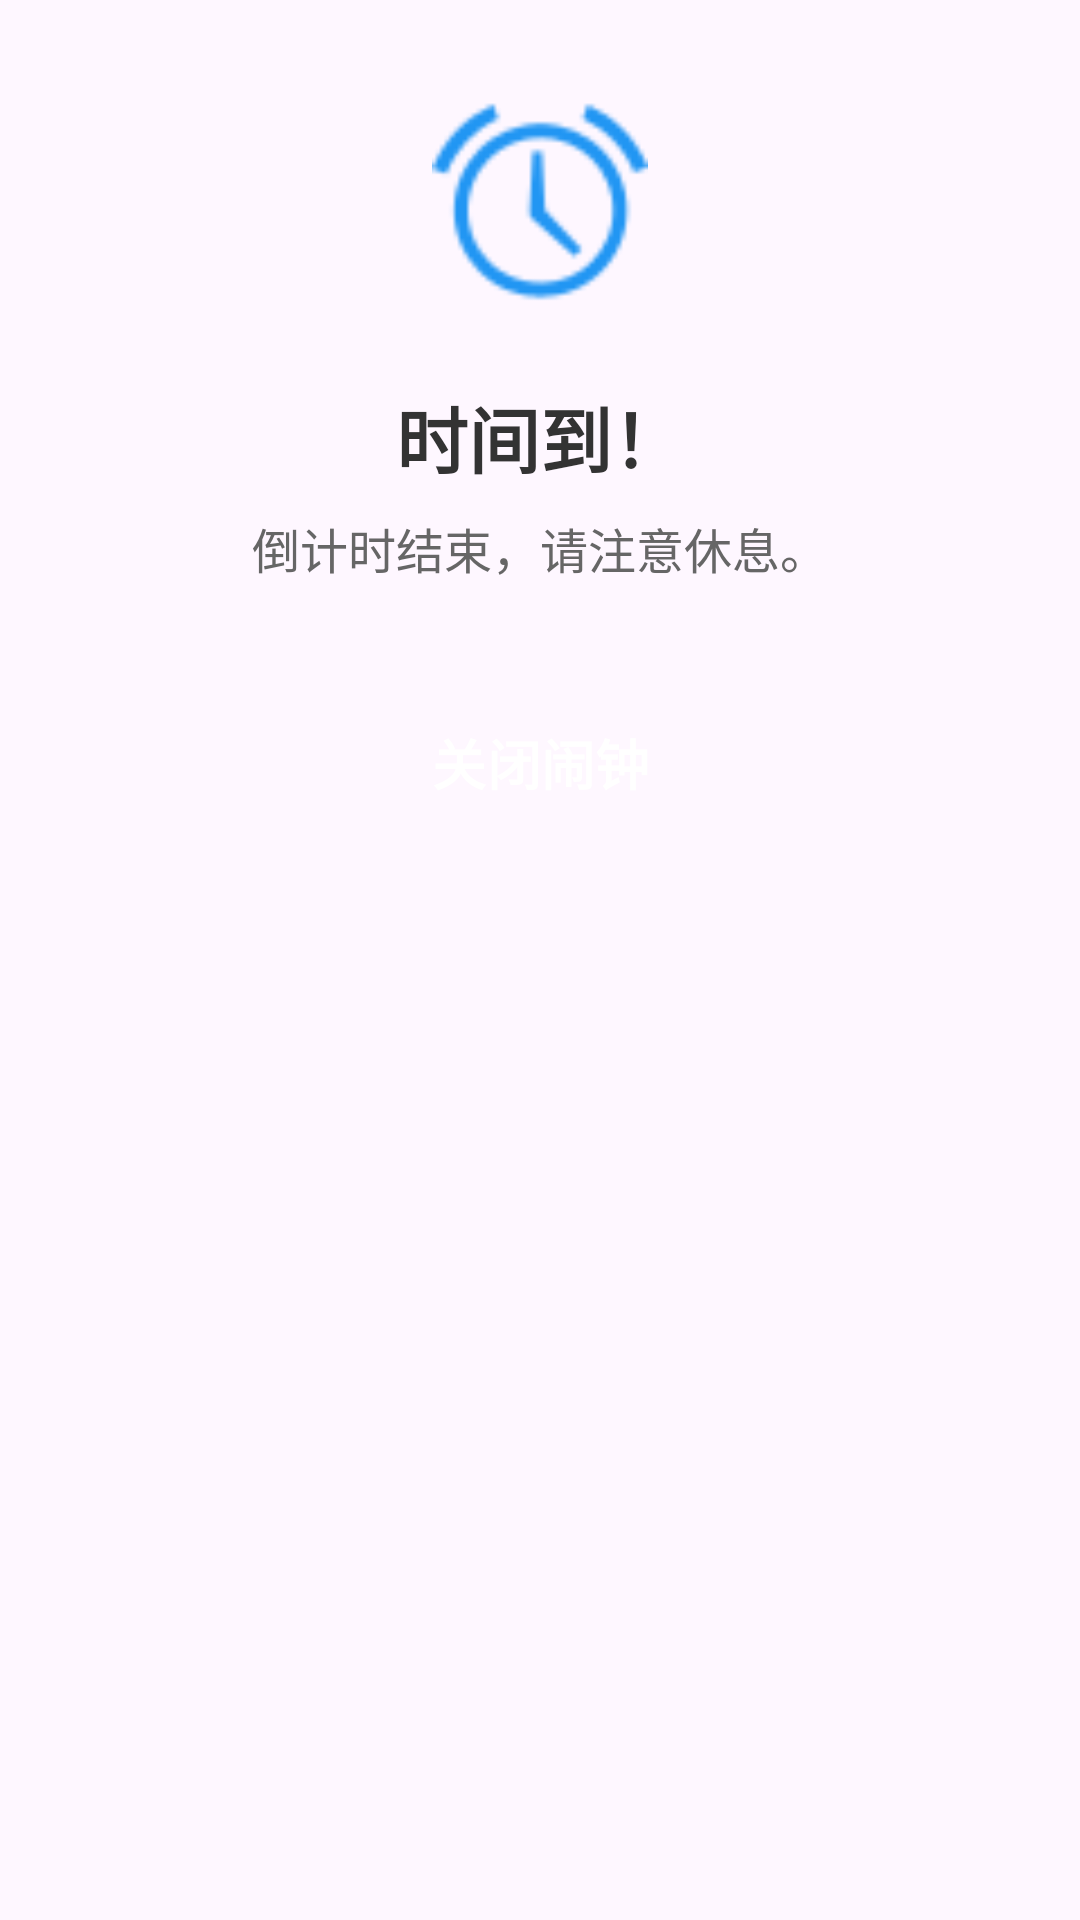

Icons on this 1080*1920 Android screen, each with the point to tap as [x,y]:
Alarm Icon: [540,201]
